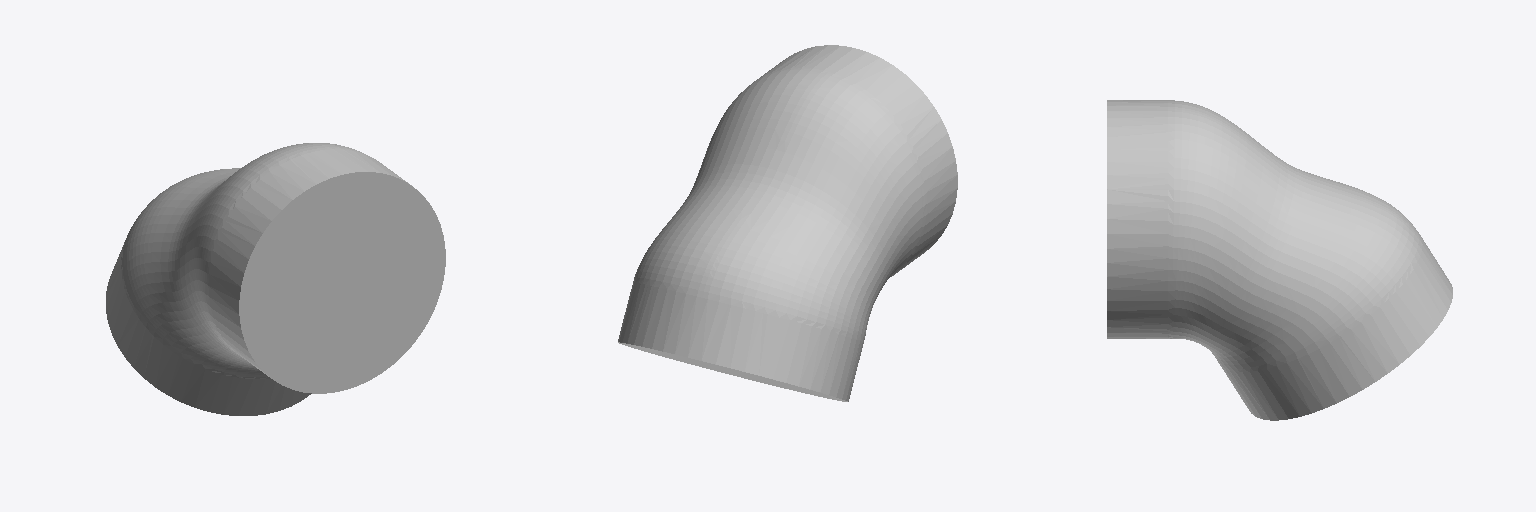
File: processed_wrist.obj
The picture shows the model from 3 angles: view 1: azimuth 30°, elevation 25°; view 2: azimuth 150°, elevation 25°; view 3: azimuth 270°, elevation 25°; orthographic projection.
Visible parts, largest first — view 1: wrist; view 2: wrist; view 3: wrist.
Part boxes in pixels (x1,y1,x2,y2): wrist: (106,143,445,415); wrist: (618,45,957,401); wrist: (1107,100,1452,420).
Bounding box in the file's own units: 0.063 × 0.0842 × 0.0914.